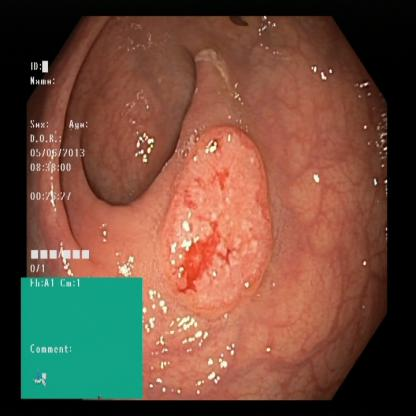Labels: (21, 278, 145, 400), (28, 56, 94, 276)
Polyps: (171, 124, 269, 306)
